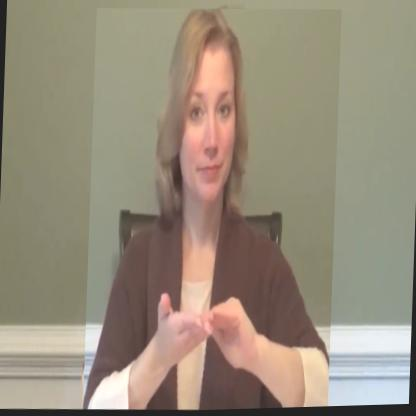ExcuseMe: (82, 3, 341, 414)
